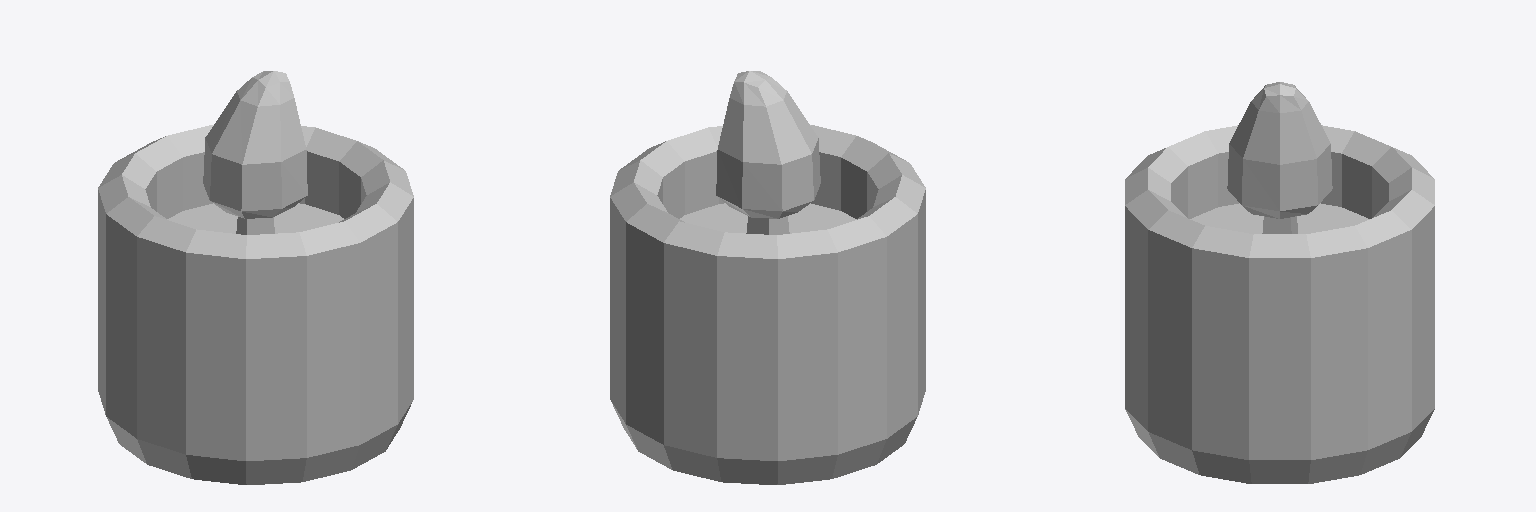
Rendered from candle.obj.
3 renders of one model, left to right at view 1: azimuth 30°, elevation 25°; view 2: azimuth 150°, elevation 25°; view 3: azimuth 270°, elevation 25°, orthographic.
Parts seen in each view (by area): view 1: candle; view 2: candle; view 3: candle.
Part boxes in pixels (x1,y1,x2,y2): candle: (98, 71, 413, 484); candle: (610, 71, 925, 484); candle: (1125, 82, 1434, 483).
Bounding box in the file's own units: 0.288 × 0.3702 × 0.288.